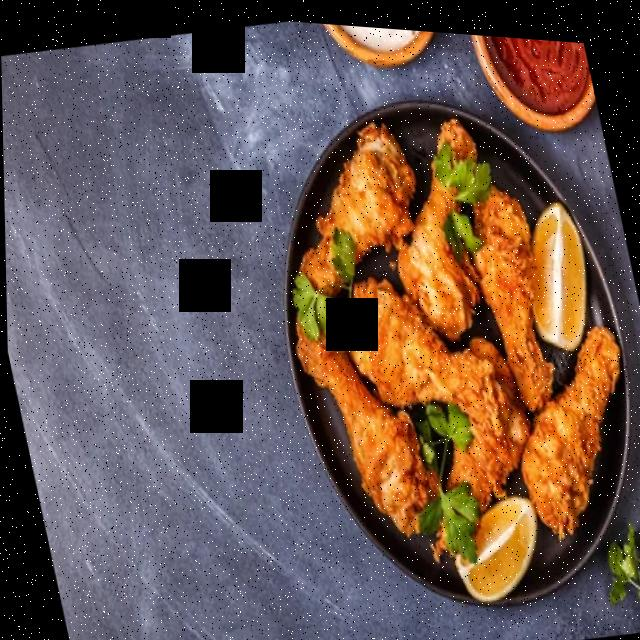Frango: (250, 72, 640, 582)
